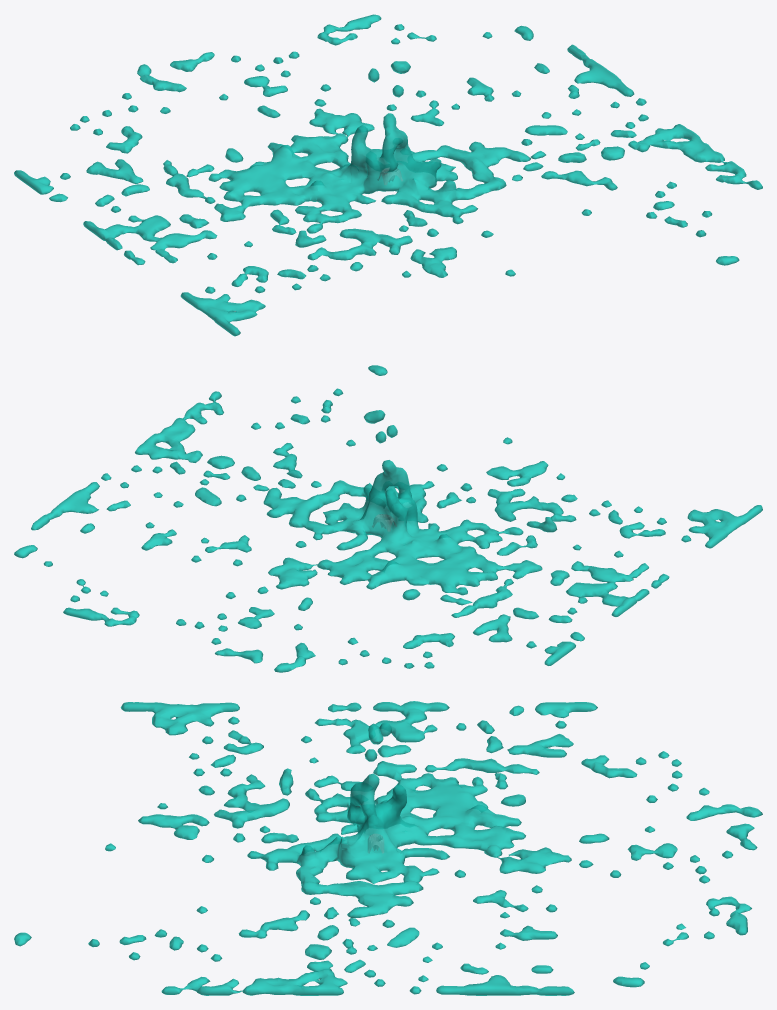
The picture shows the model from 3 angles, top to bottom: view 1: azimuth 30°, elevation 25°; view 2: azimuth 150°, elevation 25°; view 3: azimuth 270°, elevation 25°; orthographic projection. The views are drawn at different scales.
Parts seen in each view (by area): view 1: Liquid_Domain; view 2: Liquid_Domain; view 3: Liquid_Domain.
Part boxes in pixels (bbox=[...]): Liquid_Domain: bbox=[14, 14, 762, 336]; Liquid_Domain: bbox=[14, 365, 762, 672]; Liquid_Domain: bbox=[14, 701, 762, 995].
Bounding box in the file's own units: 12.43 × 2.67 × 13.66.
